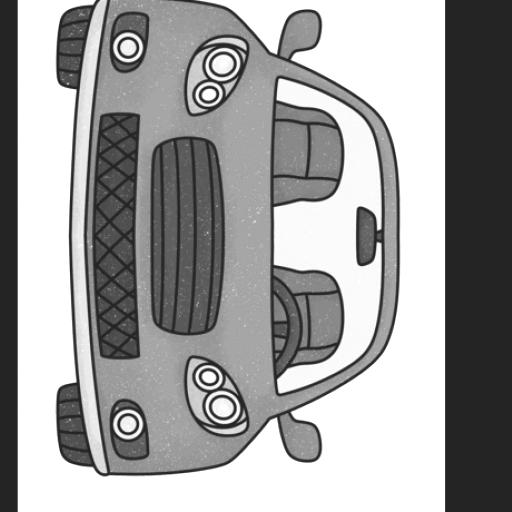hatchback: (57, 0, 398, 474)
